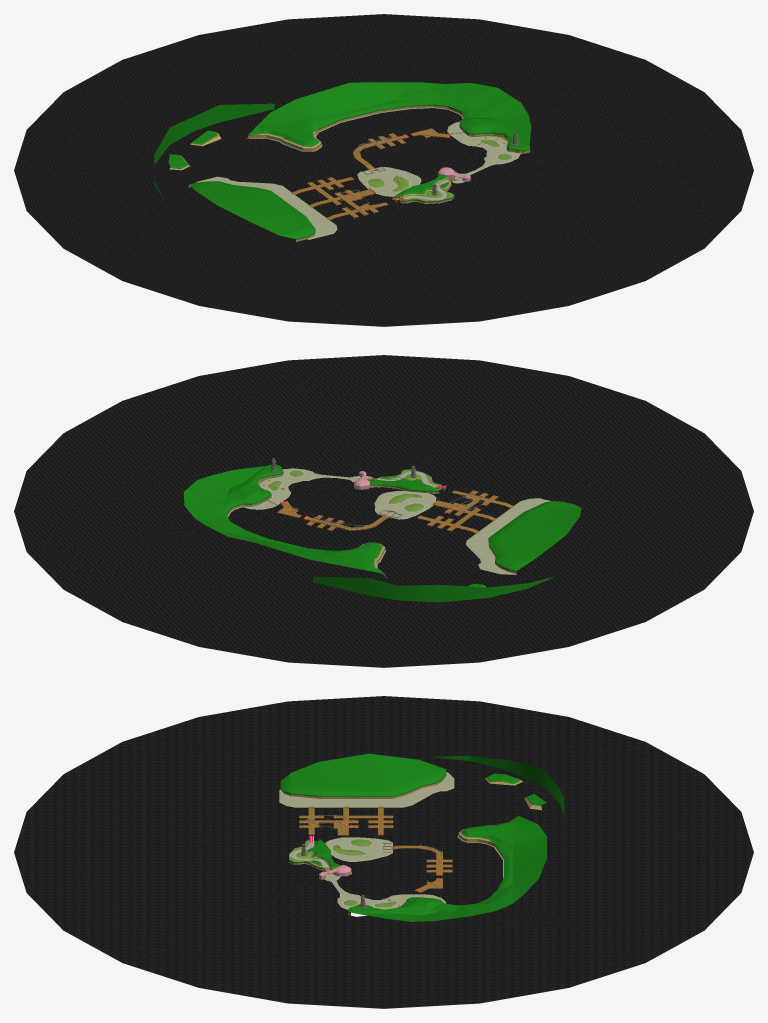
3 renders of one model, top to bottom at view 1: azimuth 30°, elevation 25°; view 2: azimuth 150°, elevation 25°; view 3: azimuth 270°, elevation 25°, orthographic.
Parts seen in each view (by area): view 1: v201-SKP--yo_wave_tex, v201-SKP--BeachGrass0, v201-SKP--BeachRoad1, v201-SKP--wood, v201-SKP--BeachWall0, v201-SKP--BeachGrass1, v201-SKP--BeachRoad0; view 2: v201-SKP--yo_wave_tex, v201-SKP--BeachGrass0, v201-SKP--BeachRoad1, v201-SKP--wood, v201-SKP--BeachWall0, v201-SKP--BeachGrass1, v201-SKP--BeachRoad0; view 3: v201-SKP--yo_wave_tex, v201-SKP--BeachGrass0, v201-SKP--BeachRoad1, v201-SKP--wood, v201-SKP--BeachWall0, v201-SKP--BeachGrass1, v201-SKP--BeachRoad0.
Part boxes in pixels (x1=…): v201-SKP--yo_wave_tex: x1=14, y1=14, x2=753, y2=326; v201-SKP--BeachGrass0: x1=153, y1=82, x2=531, y2=238; v201-SKP--BeachRoad1: x1=188, y1=107, x2=520, y2=239; v201-SKP--wood: x1=291, y1=128, x2=496, y2=220; v201-SKP--BeachWall0: x1=169, y1=104, x2=530, y2=241; v201-SKP--BeachGrass1: x1=368, y1=135, x2=511, y2=201; v201-SKP--BeachRoad0: x1=366, y1=123, x2=518, y2=200; v201-SKP--yo_wave_tex: x1=14, y1=355, x2=753, y2=667; v201-SKP--BeachGrass0: x1=183, y1=464, x2=581, y2=602; v201-SKP--BeachRoad1: x1=227, y1=468, x2=551, y2=577; v201-SKP--wood: x1=267, y1=478, x2=514, y2=533; v201-SKP--BeachWall0: x1=226, y1=472, x2=516, y2=587; v201-SKP--BeachGrass1: x1=257, y1=469, x2=441, y2=511; v201-SKP--BeachRoad0: x1=244, y1=470, x2=436, y2=512; v201-SKP--yo_wave_tex: x1=14, y1=696, x2=753, y2=1008; v201-SKP--BeachGrass0: x1=280, y1=753, x2=564, y2=921; v201-SKP--BeachRoad1: x1=279, y1=772, x2=503, y2=909; v201-SKP--wood: x1=299, y1=806, x2=452, y2=908; v201-SKP--BeachWall0: x1=280, y1=774, x2=541, y2=915; v201-SKP--BeachGrass1: x1=289, y1=839, x2=396, y2=907; v201-SKP--BeachRoad0: x1=290, y1=838, x2=405, y2=908.
Bounding box in the file's own units: 409719 × 12263 × 409719.
29 materials, 29 textured.
